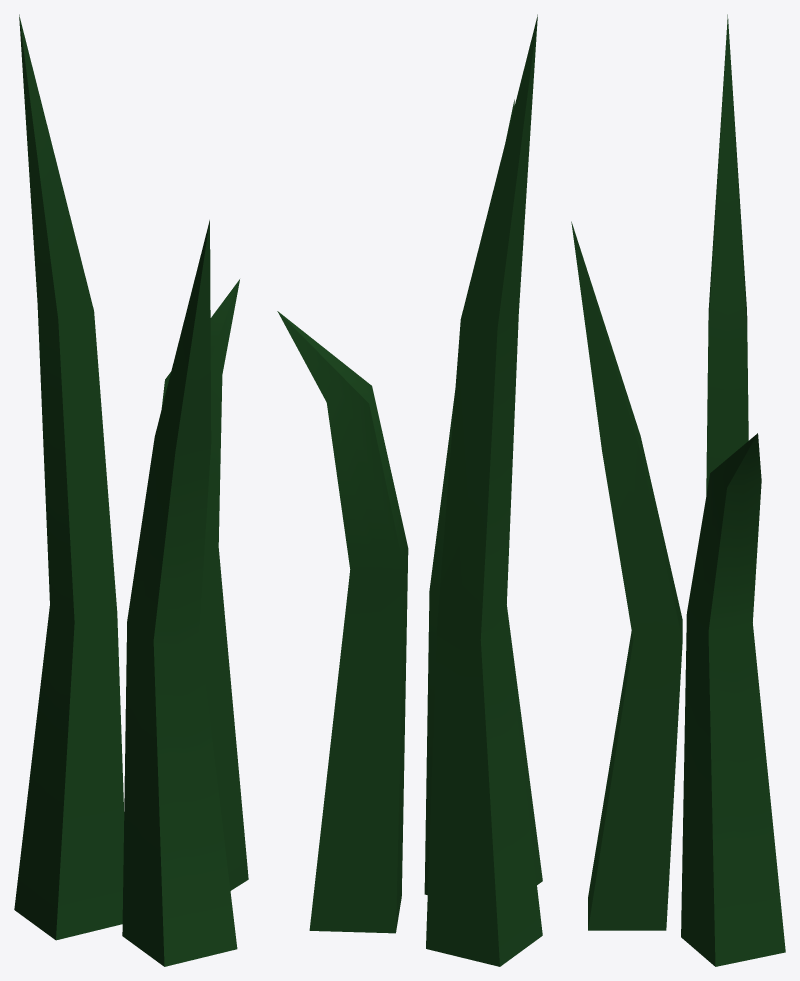
File: Grass-1.FBX
The picture shows the model from 3 angles, left to right: view 1: azimuth 30°, elevation 25°; view 2: azimuth 150°, elevation 25°; view 3: azimuth 270°, elevation 25°; orthographic projection. The views are drawn at different scales.
Parts seen in each view (by area): view 1: Pyramid001, Pyramid002, Pyramid003; view 2: Pyramid001, Pyramid003, Pyramid002; view 3: Pyramid003, Pyramid002, Pyramid001.
Boxes of the visible parts, x1,y1,x2,y2 form: Pyramid001: [14, 14, 124, 940]; Pyramid002: [122, 220, 237, 966]; Pyramid003: [161, 279, 248, 890]; Pyramid001: [426, 14, 542, 966]; Pyramid003: [277, 311, 408, 933]; Pyramid002: [424, 99, 542, 894]; Pyramid003: [681, 433, 785, 966]; Pyramid002: [571, 221, 682, 930]; Pyramid001: [706, 14, 748, 494].
Size of the model in its own units: 4.42 by 16.28 by 3.72.
